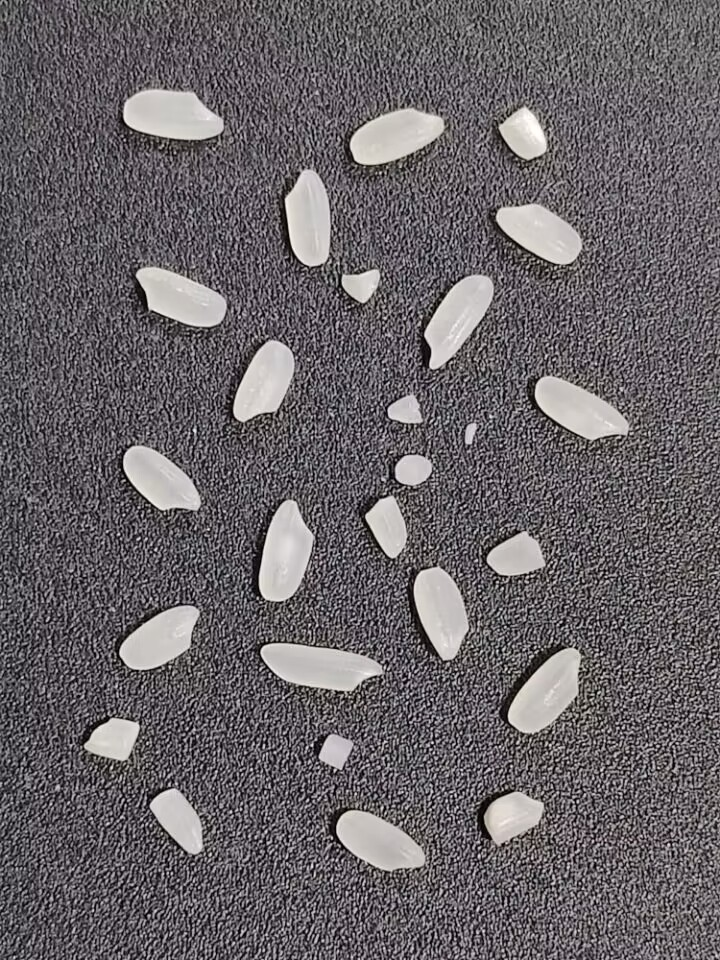broken: (146, 787, 209, 860), (481, 788, 547, 846), (485, 527, 546, 579), (79, 715, 145, 762), (497, 103, 548, 162), (364, 496, 408, 558), (337, 267, 385, 305), (314, 732, 355, 773), (392, 451, 435, 488), (385, 393, 425, 428)
rice: (416, 268, 497, 372), (503, 641, 583, 735), (533, 374, 631, 444), (258, 641, 383, 694), (254, 497, 315, 603), (346, 105, 448, 167), (134, 264, 229, 329), (118, 602, 201, 673), (121, 87, 227, 142), (332, 809, 426, 871), (228, 339, 294, 425), (494, 203, 584, 266), (121, 444, 203, 513), (281, 166, 333, 268), (413, 567, 468, 660)
